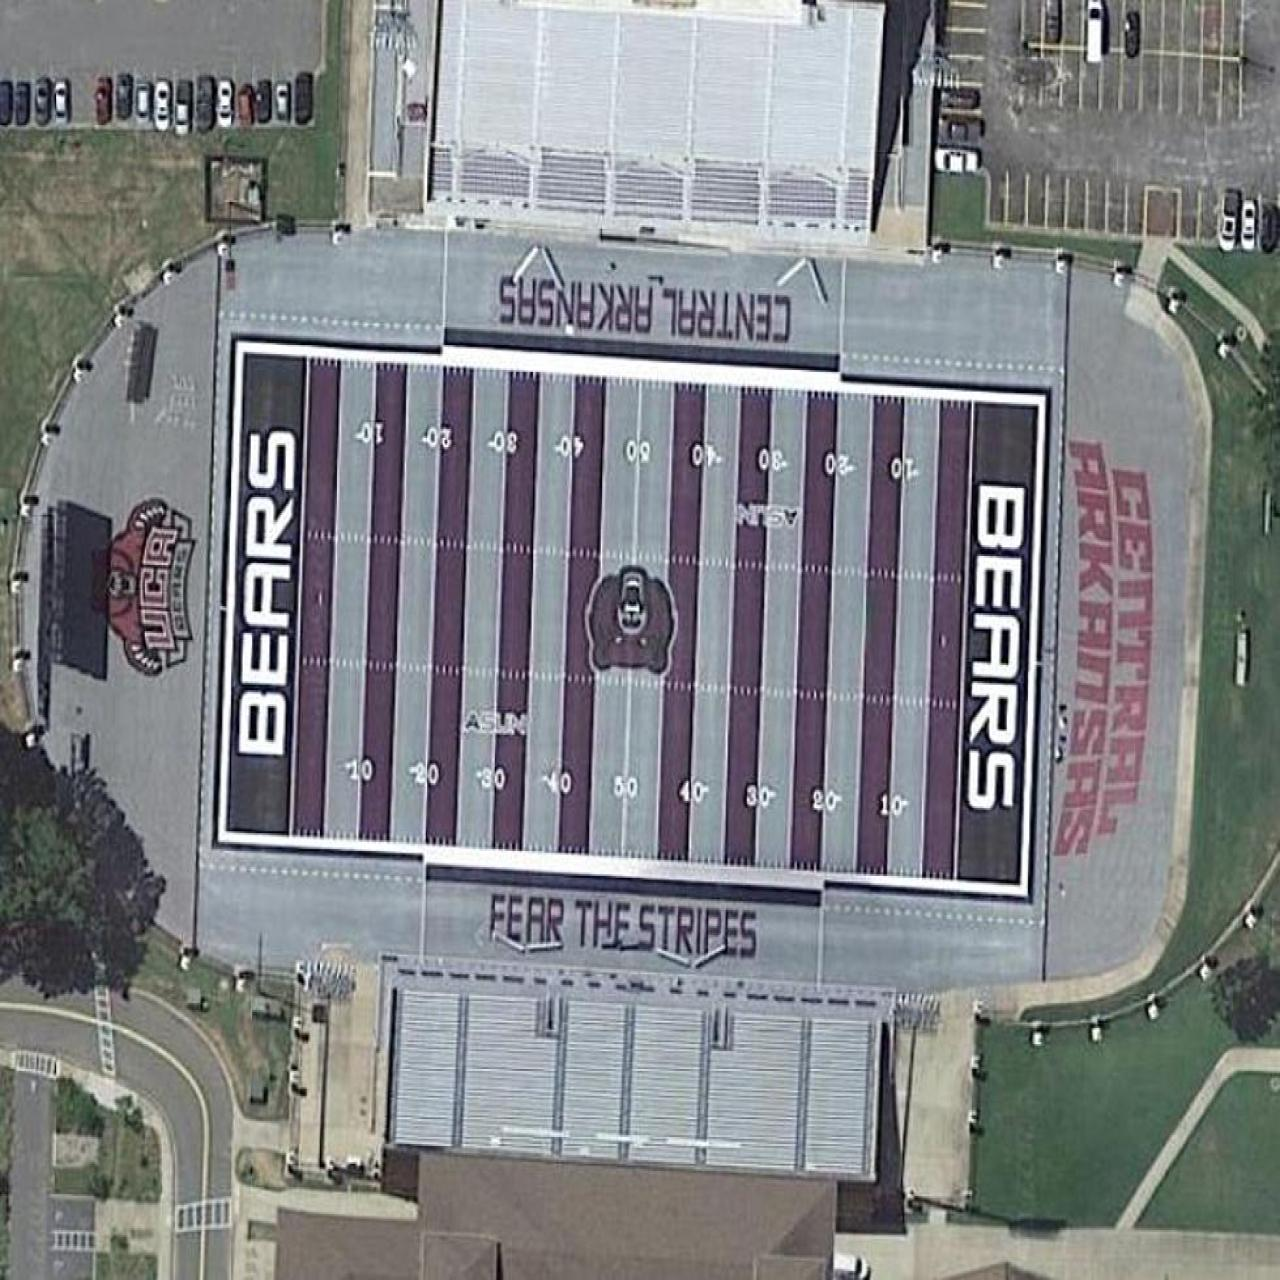10L: (343, 757, 375, 782), (354, 421, 386, 444)
10R: (890, 456, 921, 481), (879, 794, 911, 816)
20L: (407, 762, 441, 787), (420, 427, 454, 449)
20R: (824, 450, 858, 476), (812, 790, 843, 812)
30L: (475, 765, 506, 791), (486, 431, 518, 454)
30R: (756, 445, 790, 474), (745, 783, 777, 808)
40L: (540, 770, 574, 796), (553, 436, 585, 458)
40R: (676, 778, 710, 803), (692, 442, 723, 467)
50: (612, 775, 639, 798), (626, 440, 651, 462)
